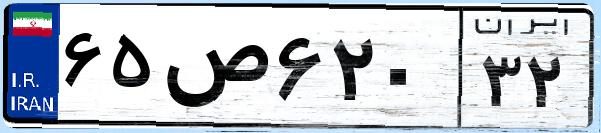0: (385, 28, 445, 110)
2: (330, 28, 385, 110), (525, 38, 570, 115)
3: (475, 38, 525, 113)
5: (110, 28, 158, 98)
6: (270, 28, 330, 110), (57, 26, 110, 100)
ص: (158, 20, 270, 120)
